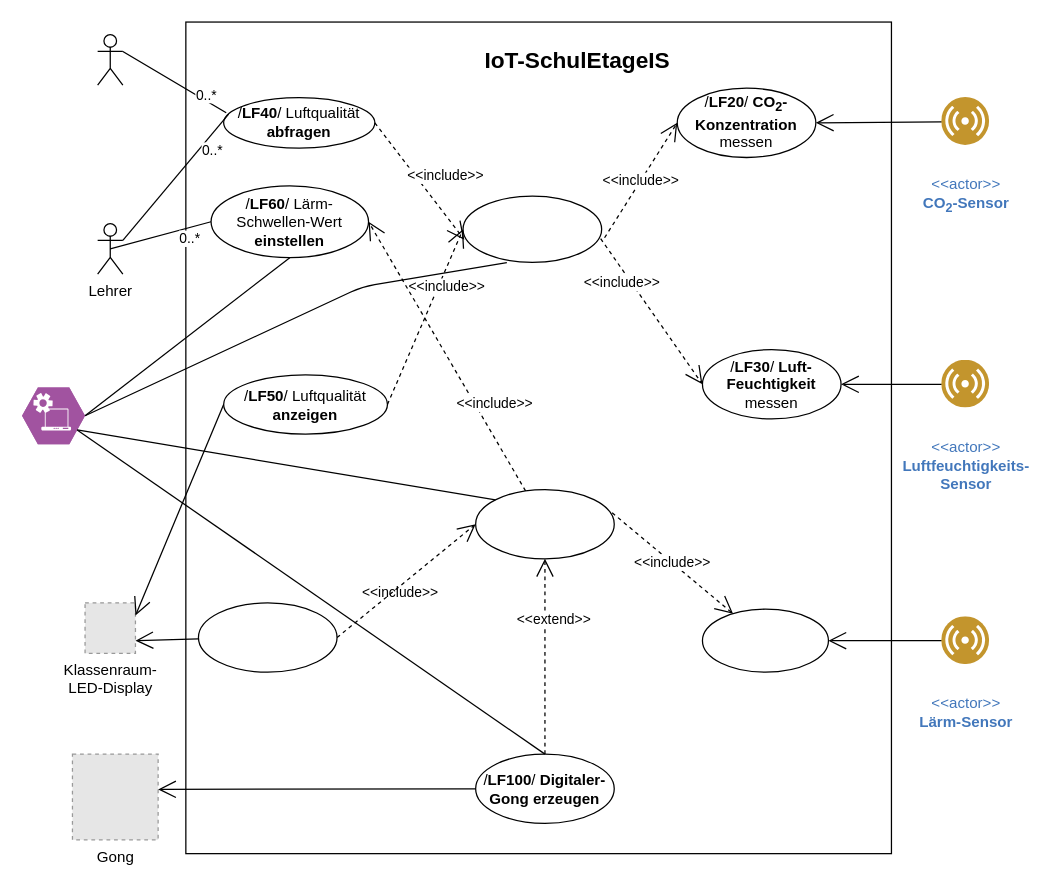
Some shapes in this 1051 by 888 pixel diagram are drawn without their labels. Grey dashed boxes stand in for pictures. The box of each missing label's shape, as (x1, y1, x2, y2) in pixels:
/ LF10 / Luftqualität ermitteln: (462, 195, 602, 262)
/ LF70 / Klassenraumlärm messen: (701, 608, 828, 672)
/ LF80 / Lärmbelastung ermitteln: (474, 488, 614, 559)
/ LF90 / Lautstärkealarm anzeigen: (197, 602, 337, 672)
Schüler: (96, 33, 123, 85)
System: (21, 386, 85, 444)
